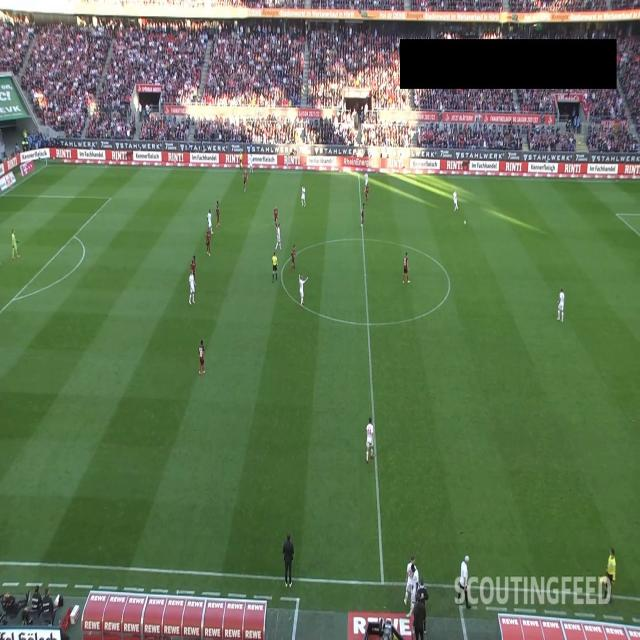ball: (464, 220, 466, 226)
